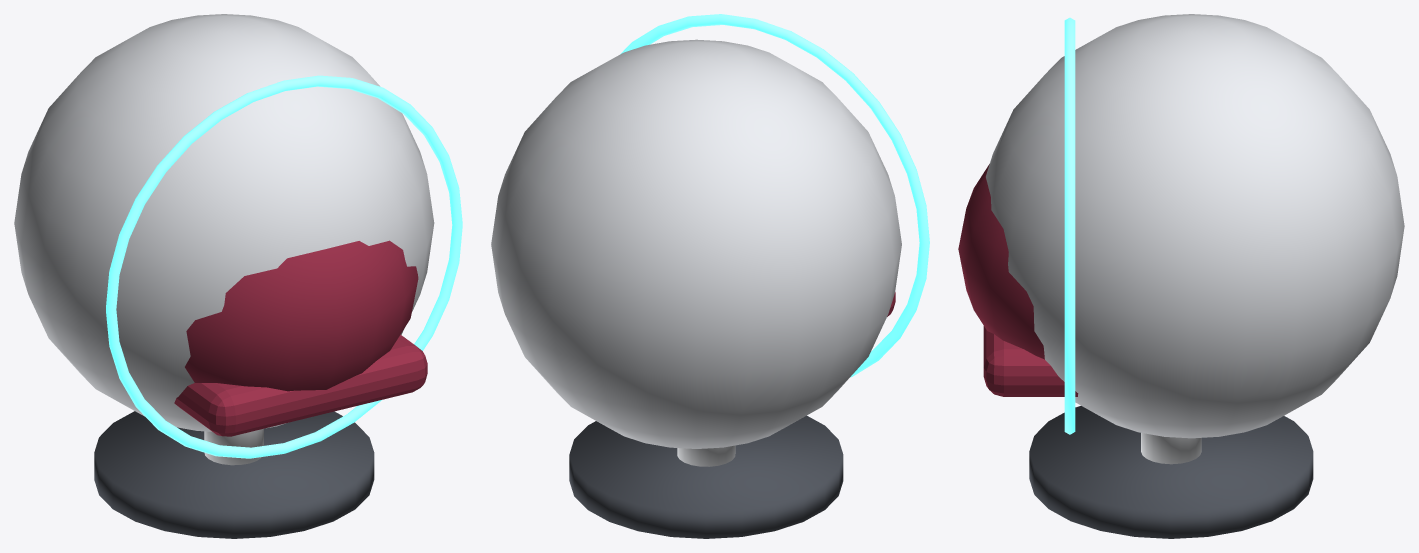
Rendered from armchair_egg.glb.
3 views of the same model, side by side, from view 1: azimuth 30°, elevation 25°; view 2: azimuth 150°, elevation 25°; view 3: azimuth 270°, elevation 25° (orthographic). The views are drawn at different scales.
Parts seen in each view (by area): view 1: GD_armchair_egg__m2, GD_armchair_egg__m3, GD_armchair_egg__m0, GD_armchair_egg__m4, GD_armchair_egg__m1; view 2: GD_armchair_egg__m2, GD_armchair_egg__m0, GD_armchair_egg__m4, GD_armchair_egg__m1; view 3: GD_armchair_egg__m2, GD_armchair_egg__m0, GD_armchair_egg__m3, GD_armchair_egg__m4, GD_armchair_egg__m1.
Part boxes in pixels (x1=…): GD_armchair_egg__m2: x1=14, y1=14, x2=434, y2=431; GD_armchair_egg__m3: x1=174, y1=240, x2=427, y2=436; GD_armchair_egg__m0: x1=94, y1=411, x2=374, y2=538; GD_armchair_egg__m4: x1=106, y1=75, x2=462, y2=458; GD_armchair_egg__m1: x1=204, y1=429, x2=263, y2=465; GD_armchair_egg__m2: x1=491, y1=39, x2=901, y2=448; GD_armchair_egg__m0: x1=569, y1=415, x2=843, y2=538; GD_armchair_egg__m4: x1=620, y1=14, x2=929, y2=377; GD_armchair_egg__m1: x1=677, y1=445, x2=735, y2=466; GD_armchair_egg__m2: x1=986, y1=14, x2=1404, y2=438; GD_armchair_egg__m0: x1=1029, y1=406, x2=1313, y2=538; GD_armchair_egg__m3: x1=958, y1=164, x2=1078, y2=396; GD_armchair_egg__m4: x1=1064, y1=17, x2=1075, y2=434; GD_armchair_egg__m1: x1=1141, y1=433, x2=1201, y2=464.
Size of the model in its own units: 0.84 by 0.97 by 0.88.
